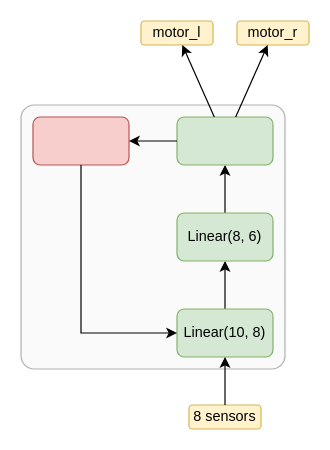
Image size: 330x450. Some labels were removed from this diagram. Here are the shapes that lost their labels. From the top down, the box of each, then its label:
(32, 116, 129, 165): 2 memory cells
(176, 116, 273, 165): Linear(6, 4)
